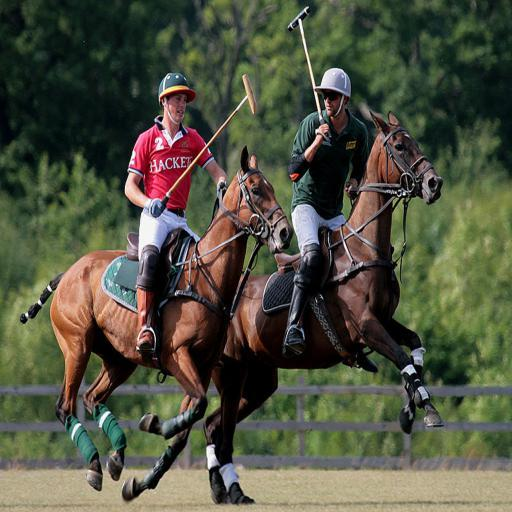Horse: (21, 147, 293, 502), (208, 110, 444, 511)
